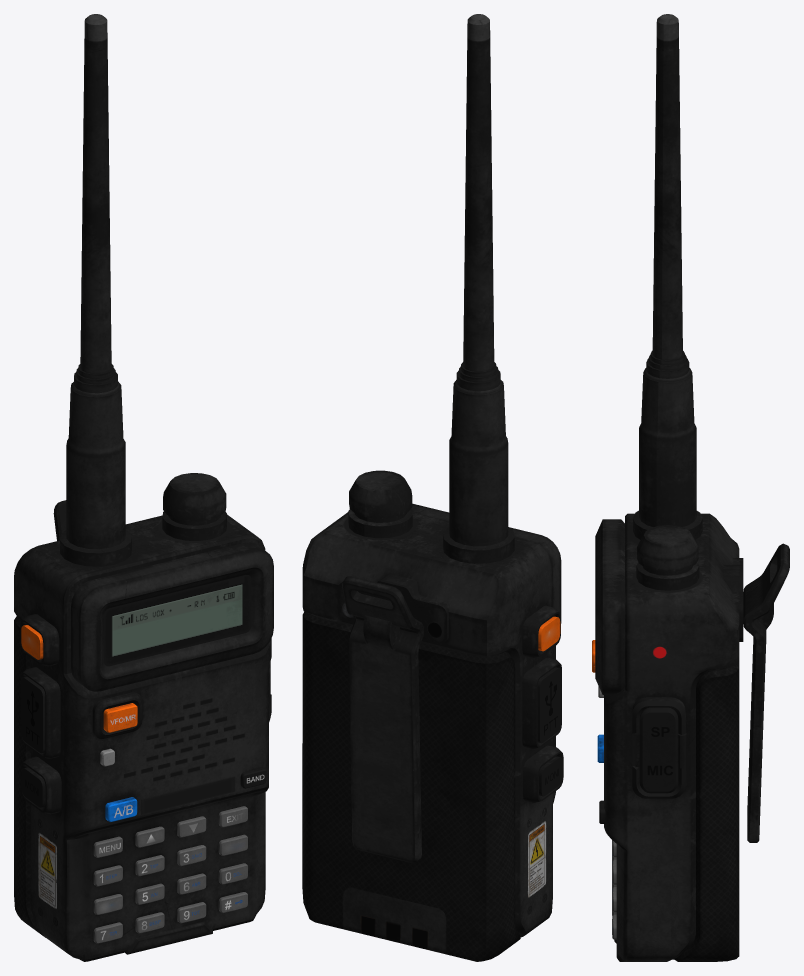
File: 对讲机.fbx
3 views of the same model, side by side, from view 1: azimuth 30°, elevation 25°; view 2: azimuth 150°, elevation 25°; view 3: azimuth 270°, elevation 25° (orthographic). The views are drawn at different scales.
Visible parts, largest first — view 1: 对讲机; view 2: 对讲机; view 3: 对讲机.
Boxes of the visible parts, x1,y1,x2,y2 form: 对讲机: (14,14,273,961); 对讲机: (302,14,563,961); 对讲机: (592,14,789,961).
Bounding box in the file's own units: 26.16 × 100 × 20.26.
Materials: 1 (1 with a texture image).
